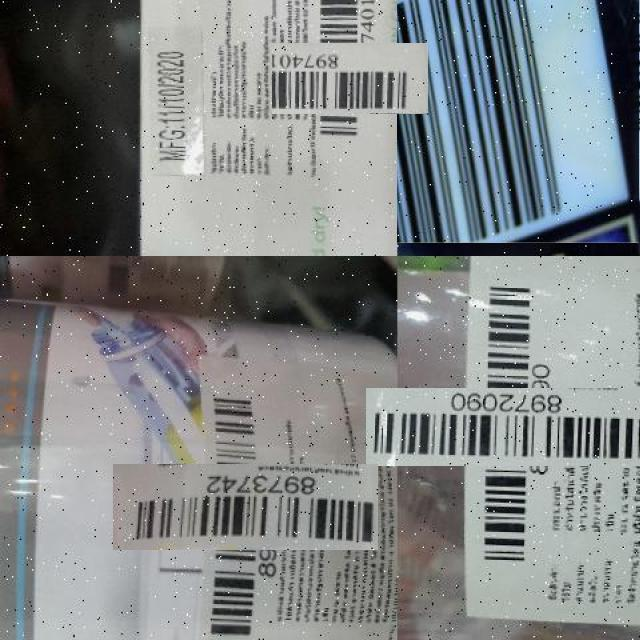Barcode: (397, 0, 640, 243), (421, 333, 611, 522), (158, 419, 334, 595), (294, 21, 408, 136)
